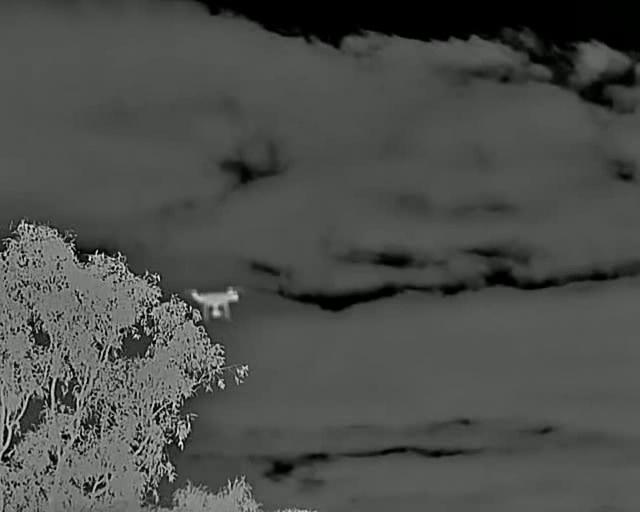DJI-Phantom: (185, 284, 246, 323)
